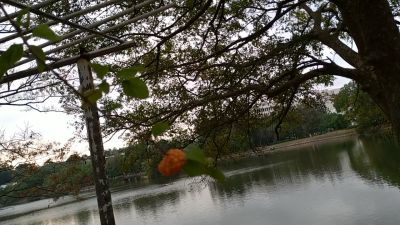eggs: (158, 146, 186, 178)
